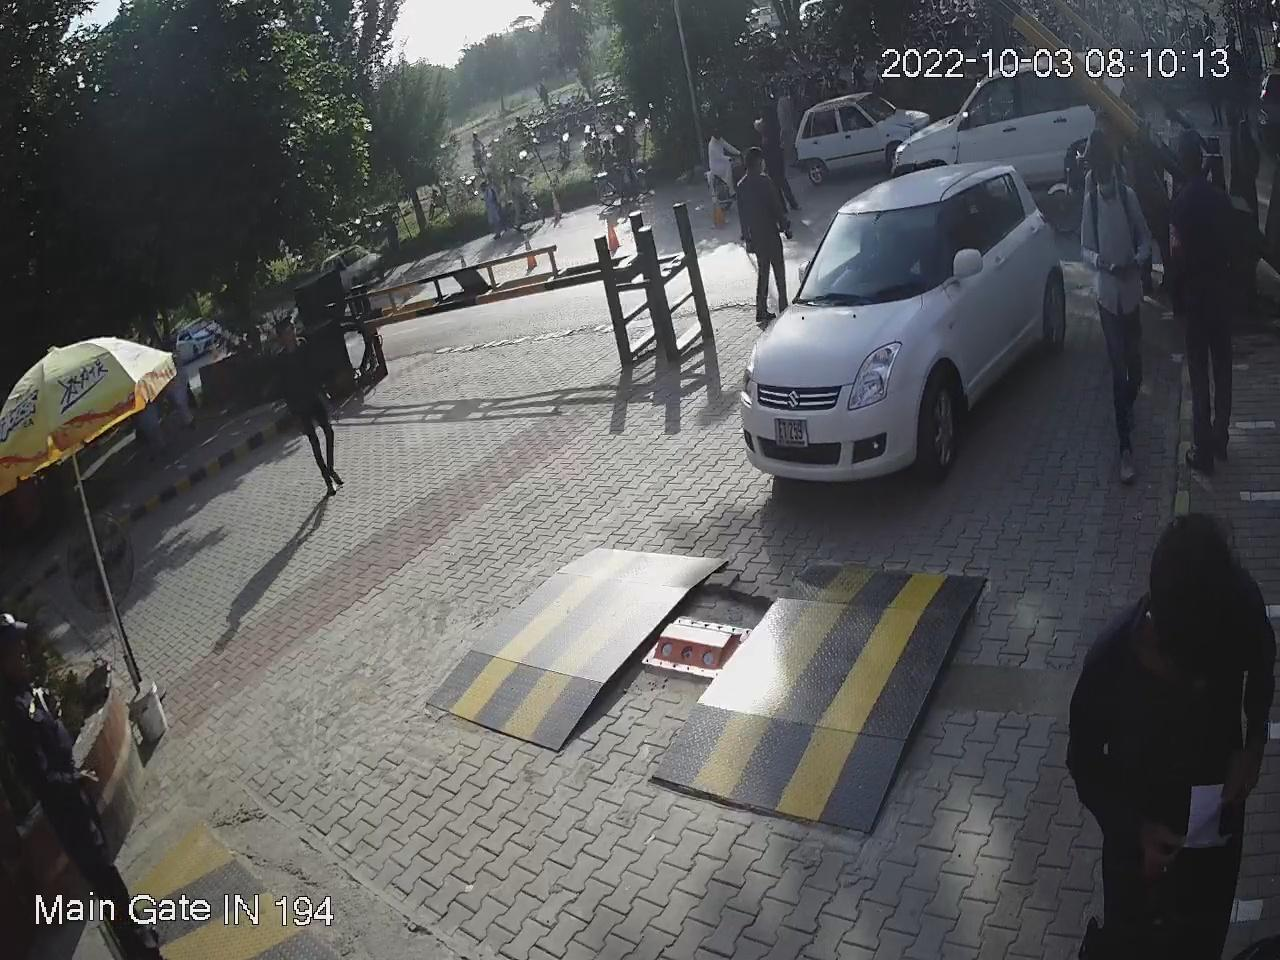windshield: (778, 198, 950, 308)
